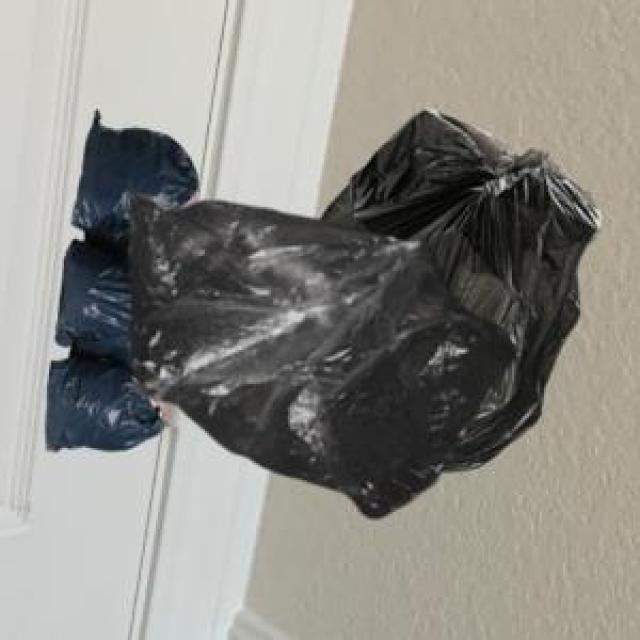miscellaneous trash: (318, 105, 597, 467), (43, 107, 194, 448)
